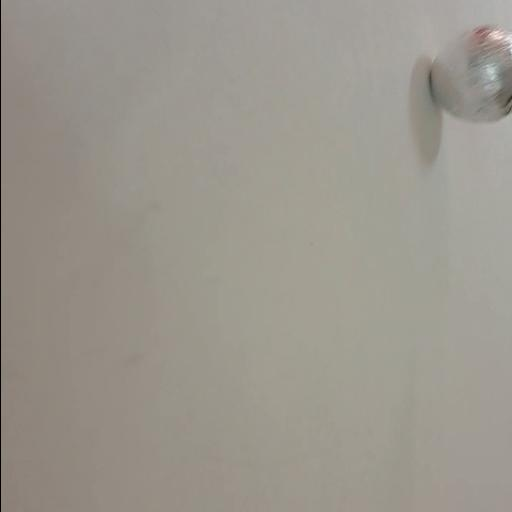alive: (430, 23, 512, 123)
